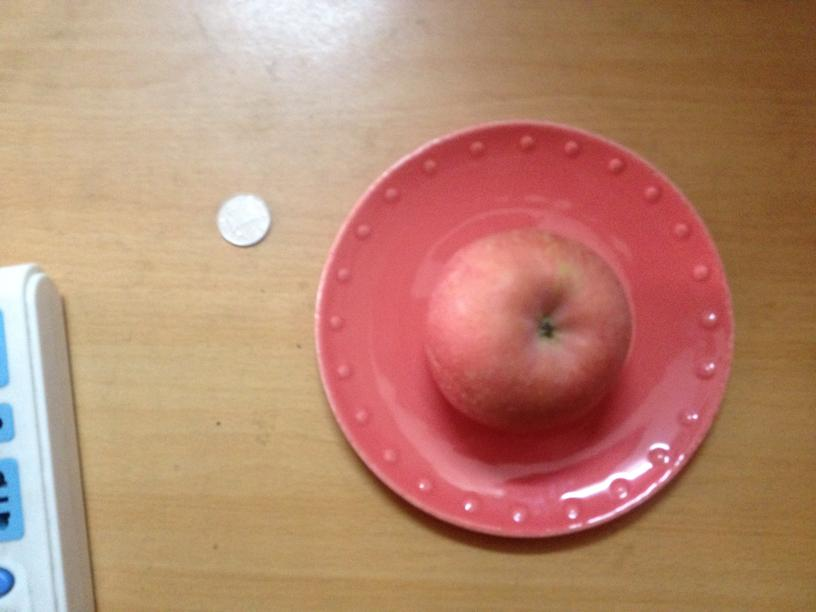apple: (424, 229, 631, 435)
coin: (216, 193, 270, 247)
